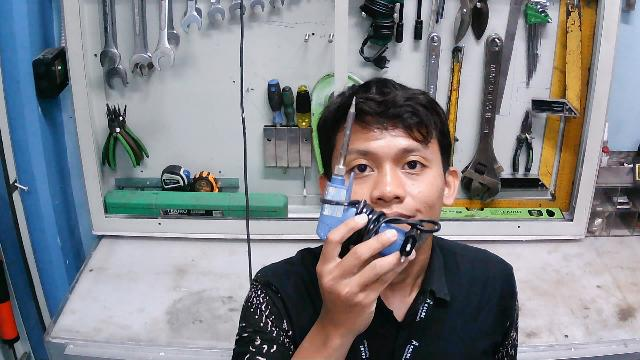solder_electrical: (315, 95, 441, 266)
